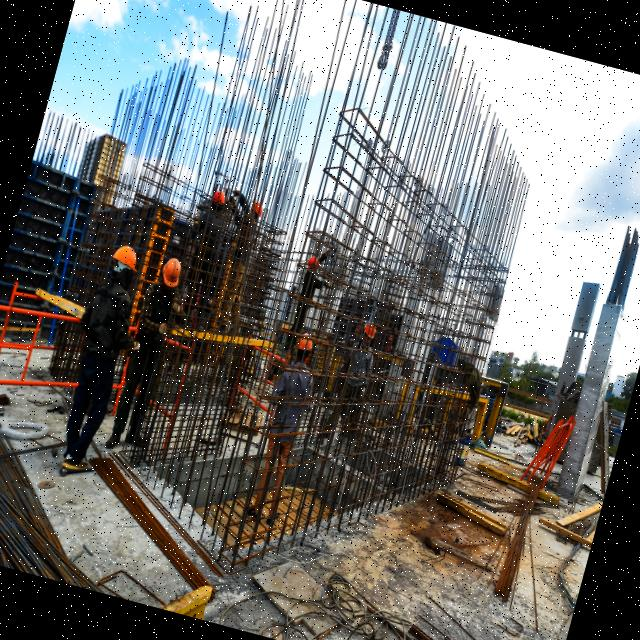Helmet: (109, 244, 145, 275), (157, 254, 186, 292), (295, 332, 319, 358), (361, 318, 380, 343), (210, 188, 230, 210), (248, 200, 266, 220), (306, 255, 323, 272)
NoJacket: (82, 270, 138, 369), (269, 352, 315, 446), (135, 282, 181, 369)
